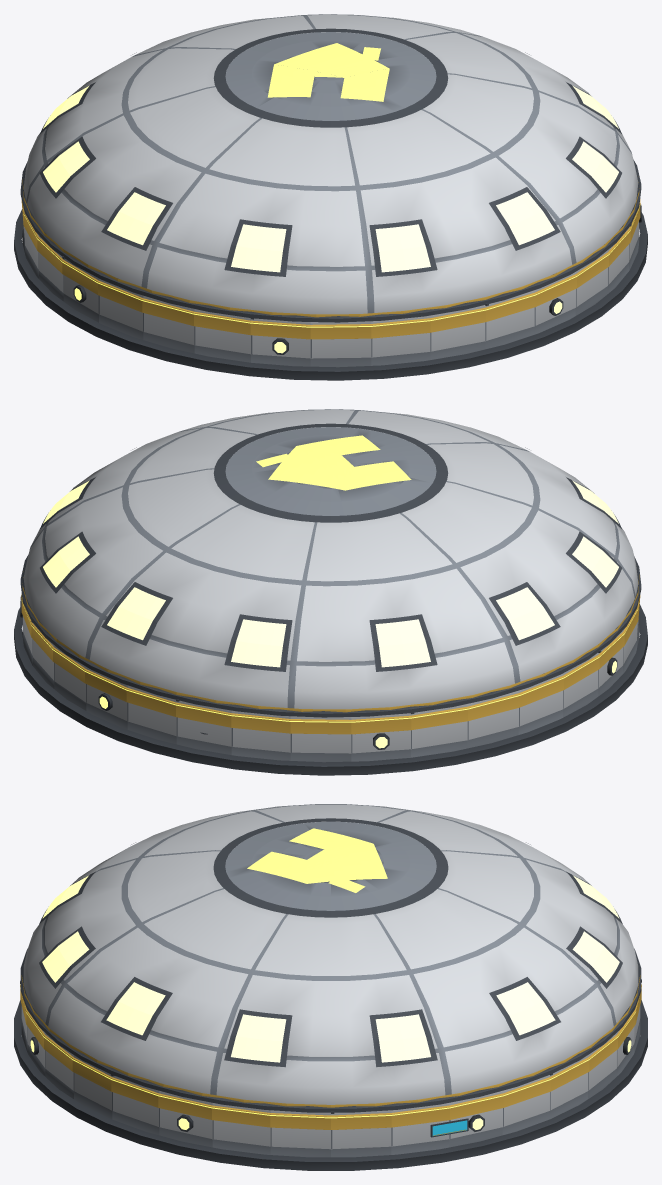
The model's file is habitat.glb.
3 views of the same model, one above another, from view 1: azimuth 30°, elevation 25°; view 2: azimuth 150°, elevation 25°; view 3: azimuth 270°, elevation 25° (orthographic).
Visible parts, largest first — view 1: Roof, Base, Wall_21, Wall_20, Wall_22, Wall_19, Wall_23, Wall_18, Wall_24, Wall_17, Wall_25, Wall_16 (+4 smaller); view 2: Roof, Base, Wall_10, Wall_11, Wall_09, Wall_12, Wall_08, Wall_13, Wall_07, Wall_14, Wall_06, Wall_15 (+4 smaller); view 3: Roof, Base, Wall_00, Wall_31, Wall_30, Wall_29, Wall_01, Wall_02, Wall_03, Wall_28, Wall_04, Wall_27 (+4 smaller).
Part boxes in pixels (left/top/right/bottom): Roof: left=20, top=14, right=641, bottom=322; Base: left=14, top=209, right=647, bottom=380; Wall_21: left=310, top=321, right=371, bottom=367; Wall_20: left=250, top=317, right=310, bottom=366; Wall_22: left=371, top=315, right=430, bottom=365; Wall_19: left=193, top=309, right=250, bottom=362; Wall_23: left=430, top=305, right=485, bottom=359; Wall_18: left=142, top=295, right=194, bottom=353; Wall_24: left=485, top=290, right=535, bottom=349; Wall_17: left=97, top=278, right=143, bottom=339; Wall_25: left=534, top=272, right=576, bottom=334; Wall_16: left=62, top=256, right=98, bottom=322; Roof: left=20, top=409, right=641, bottom=717; Base: left=14, top=604, right=647, bottom=775; Wall_10: left=290, top=716, right=351, bottom=762; Wall_11: left=351, top=713, right=411, bottom=761; Wall_09: left=231, top=710, right=290, bottom=760; Wall_12: left=411, top=704, right=468, bottom=757; Wall_08: left=176, top=699, right=231, bottom=754; Wall_13: left=467, top=690, right=519, bottom=748; Wall_07: left=126, top=685, right=176, bottom=744; Wall_14: left=518, top=673, right=564, bottom=734; Wall_06: left=85, top=667, right=127, bottom=729; Wall_15: left=563, top=653, right=599, bottom=717; Roof: left=20, top=804, right=641, bottom=1112; Base: left=14, top=1000, right=647, bottom=1170; Wall_00: left=331, top=1110, right=391, bottom=1157; Wall_31: left=270, top=1110, right=330, bottom=1157; Wall_30: left=212, top=1103, right=270, bottom=1154; Wall_29: left=158, top=1091, right=212, bottom=1147; Wall_01: left=391, top=1103, right=449, bottom=1154; Wall_02: left=449, top=1091, right=503, bottom=1147; Wall_03: left=502, top=1075, right=550, bottom=1134; Wall_28: left=111, top=1074, right=159, bottom=1134; Wall_04: left=549, top=1055, right=589, bottom=1119; Wall_27: left=72, top=1055, right=112, bottom=1119.
Bounding box in the file's own units: 16.26 × 5.04 × 16.26.
